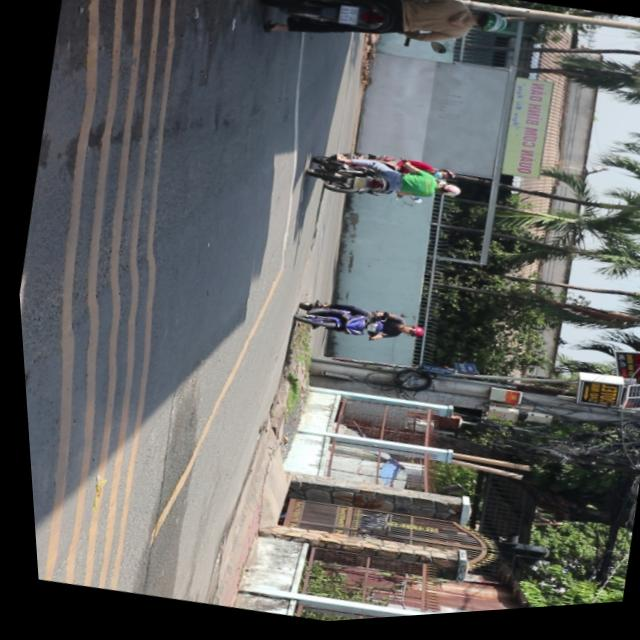helmet: (469, 13, 510, 45)
licenseplate: (256, 0, 516, 87)
nohelmet: (337, 10, 361, 33)
